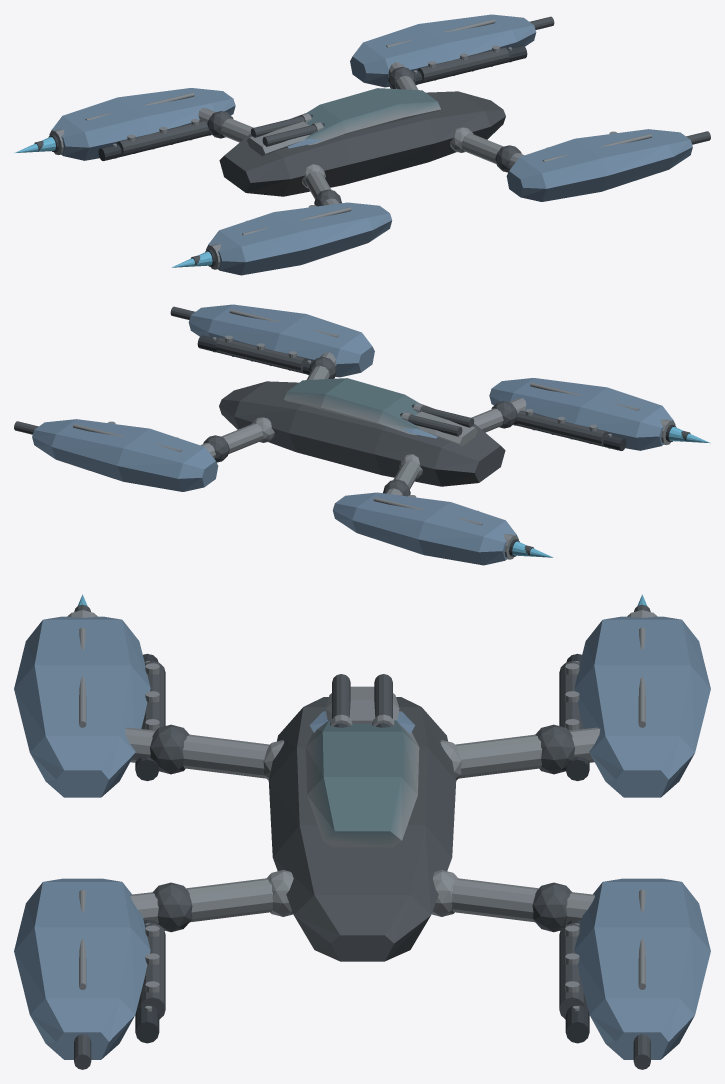
Rendered from x5_blue_ground_flight.glb.
The picture shows the model from 3 angles, top to bottom: view 1: azimuth 30°, elevation 25°; view 2: azimuth 150°, elevation 25°; view 3: azimuth 270°, elevation 25°; orthographic projection. The views are drawn at different scales.
Parts seen in each view (by area): view 1: pod_armor_10, center_hull_0, cabin_base_1, pod_mechanics_16, mechanical_arms_8, outer_joint_9, pod_rail_11, missile_body_3, inner_drive_rail_18, launcher_saddle_2, engine_flame_15, forward_gun_12 (+1 smaller); view 2: pod_armor_10, center_hull_0, cabin_base_1, pod_mechanics_16, mechanical_arms_8, outer_joint_9, pod_rail_11, missile_body_3, inner_drive_rail_18, launcher_saddle_2, engine_flame_15, forward_gun_12 (+1 smaller); view 3: pod_armor_10, center_hull_0, mechanical_arms_8, cabin_base_1, outer_joint_9, pod_mechanics_16, inner_drive_rail_18, inner_joint_7, pod_rail_11, mechanical_crossbeam_17, missile_body_3, forward_gun_12 (+1 smaller).
Part boxes in pixels (bbox=[...]): pod_armor_10: bbox=[49, 14, 692, 275]; center_hull_0: bbox=[219, 91, 505, 196]; cabin_base_1: bbox=[305, 88, 440, 145]; pod_mechanics_16: bbox=[117, 47, 509, 155]; mechanical_arms_8: bbox=[198, 62, 524, 205]; outer_joint_9: bbox=[207, 67, 521, 206]; pod_rail_11: bbox=[85, 19, 651, 235]; missile_body_3: bbox=[250, 115, 323, 146]; inner_drive_rail_18: bbox=[98, 45, 527, 160]; launcher_saddle_2: bbox=[247, 121, 309, 156]; engine_flame_15: bbox=[14, 136, 212, 267]; forward_gun_12: bbox=[34, 16, 710, 265]; pod_armor_10: bbox=[32, 304, 675, 565]; center_hull_0: bbox=[219, 381, 505, 486]; cabin_base_1: bbox=[284, 378, 420, 435]; pod_mechanics_16: bbox=[215, 337, 607, 445]; mechanical_arms_8: bbox=[200, 352, 526, 495]; outer_joint_9: bbox=[203, 357, 517, 496]; pod_rail_11: bbox=[73, 309, 639, 525]; missile_body_3: bbox=[401, 405, 474, 436]; inner_drive_rail_18: bbox=[197, 335, 626, 450]; launcher_saddle_2: bbox=[415, 411, 477, 446]; engine_flame_15: bbox=[512, 426, 710, 557]; forward_gun_12: bbox=[14, 306, 690, 555]; pod_armor_10: bbox=[14, 616, 710, 1059]; center_hull_0: bbox=[268, 697, 456, 961]; mechanical_arms_8: bbox=[125, 727, 600, 923]; cabin_base_1: bbox=[305, 720, 419, 847]; outer_joint_9: bbox=[150, 724, 574, 932]; pod_mechanics_16: bbox=[140, 661, 584, 1019]; inner_drive_rail_18: bbox=[135, 653, 589, 1043]; inner_joint_7: bbox=[263, 740, 461, 916]; pod_rail_11: bbox=[79, 627, 645, 989]; mechanical_crossbeam_17: bbox=[145, 663, 579, 992]; missile_body_3: bbox=[332, 674, 392, 726]; forward_gun_12: bbox=[74, 604, 650, 1069].
Size of the model in its own units: 8.41 by 0.9 by 5.28.
